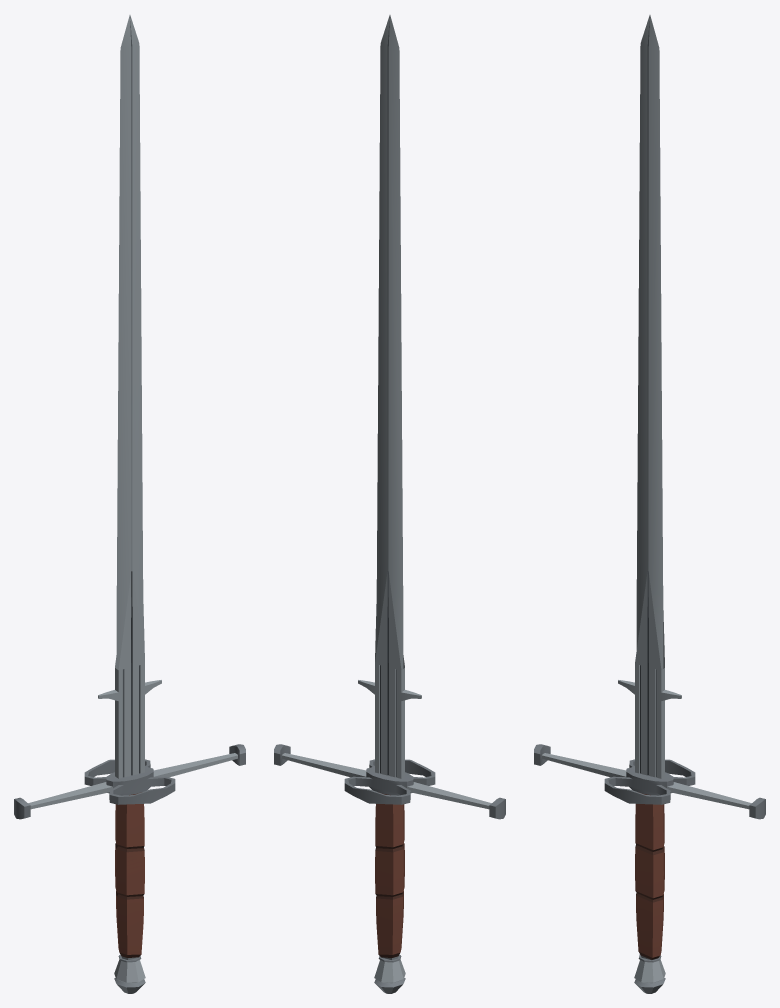
Rendered from SM_Sword11_Montante_1.fbx.
3 views of the same model, side by side, from view 1: azimuth 30°, elevation 25°; view 2: azimuth 150°, elevation 25°; view 3: azimuth 330°, elevation 25° (orthographic).
Parts seen in each view (by area): view 1: Cube.503, Cylinder.659, Cylinder.660, Sphere.181; view 2: Cube.503, Cylinder.659, Cylinder.660, Sphere.181; view 3: Cube.503, Cylinder.659, Cylinder.660, Sphere.181.
Boxes of the visible parts, x1=… form: Cube.503: x1=98, y1=15, x2=161, y2=778; Cylinder.659: x1=14, y1=744, x2=245, y2=819; Cylinder.660: x1=115, y1=792, x2=144, y2=959; Sphere.181: x1=114, y1=954, x2=145, y2=993; Cube.503: x1=358, y1=15, x2=421, y2=778; Cylinder.659: x1=274, y1=744, x2=505, y2=819; Cylinder.660: x1=375, y1=792, x2=404, y2=959; Sphere.181: x1=374, y1=954, x2=405, y2=993; Cube.503: x1=618, y1=15, x2=681, y2=778; Cylinder.659: x1=534, y1=744, x2=765, y2=819; Cylinder.660: x1=635, y1=792, x2=664, y2=960; Sphere.181: x1=634, y1=954, x2=665, y2=993.
Bounding box in the file's own units: 0.3597 × 1.48 × 0.1145.
